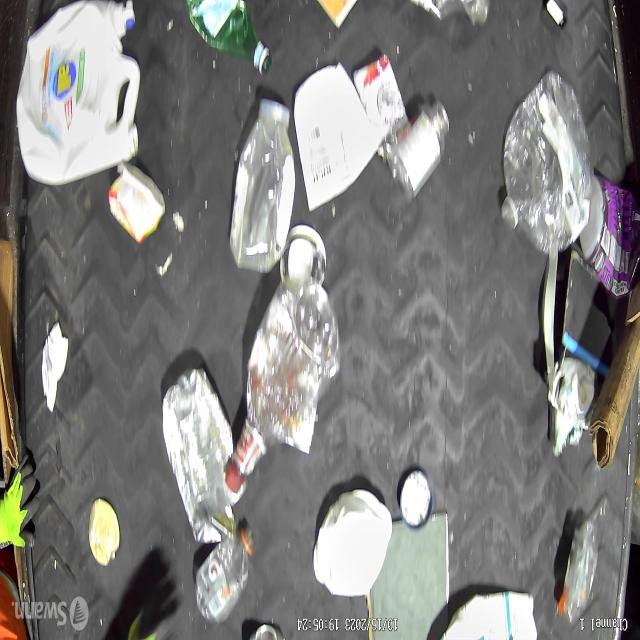can: (161, 364, 249, 543), (353, 49, 409, 162), (278, 224, 327, 288), (247, 623, 285, 640)
milk_jug: (15, 0, 142, 188), (311, 482, 394, 601), (440, 588, 539, 640)
non_white_jug: (579, 172, 640, 298)
plastic_bottle: (223, 282, 340, 494), (500, 71, 592, 254), (194, 519, 255, 622)
